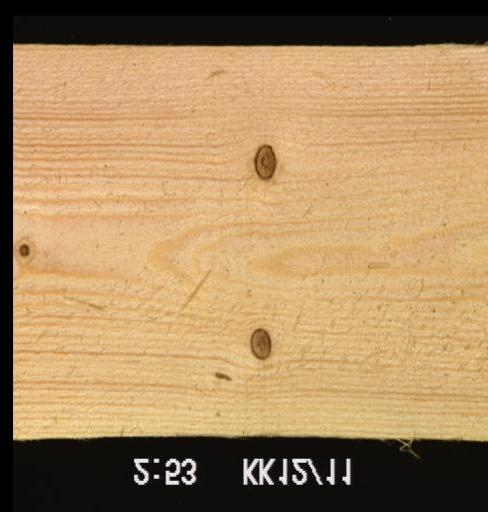dry_knot: (250, 143, 277, 181), (247, 325, 270, 361), (15, 234, 33, 264)
